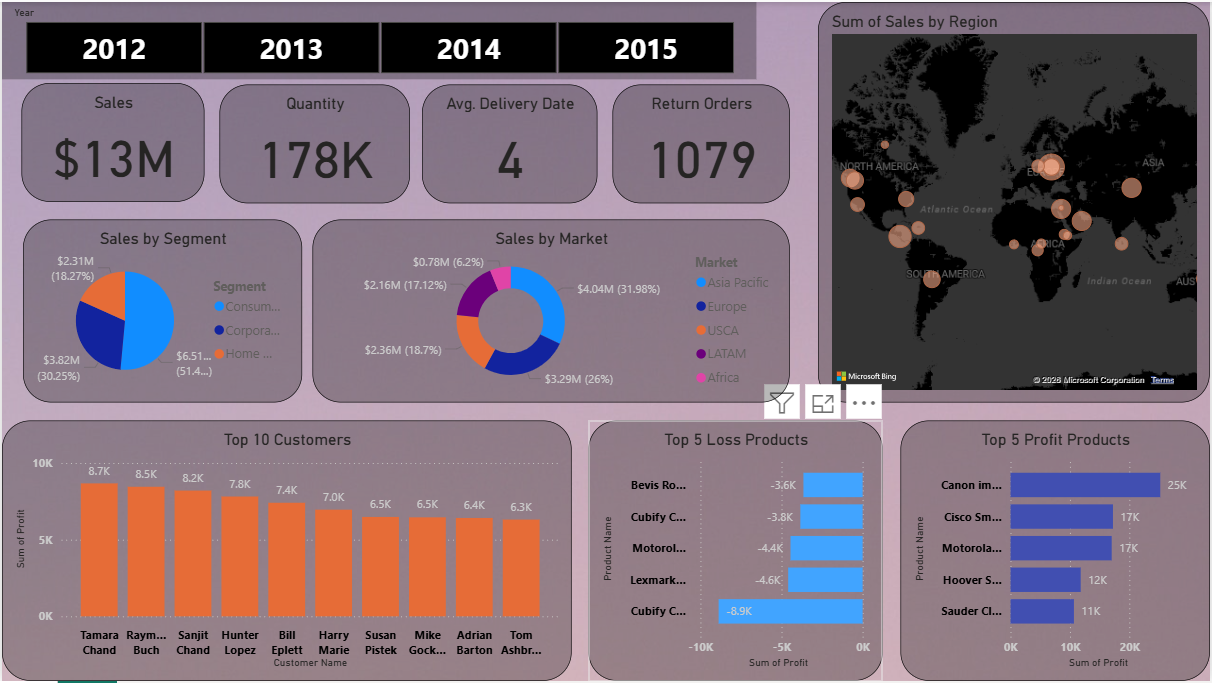

The dashboard page shown, as its layout file describes it:
{"tool":"powerbi","page":{"name":"Page 1","canvas":[1280,720],"ordinal":0},"visuals":[{"type":"card","title":"Sales","fields":{"Values":["Sum(Orders.Sales)"]},"box":[21.3,86.7,194,126],"z":0},{"type":"card","title":"Quantity","fields":{"Values":["Sum(Orders.Quantity)"]},"box":[230,87.3,202,126],"z":1000},{"type":"card","title":"Avg. Delivery Date","fields":{"Values":["Avg(Orders.Delivery days)"]},"box":[446,87.3,186,126],"z":2000},{"type":"slicer","fields":{"Values":["Orders.Year"]},"box":[0,0,800,82],"z":3000},{"type":"card","title":"Return Orders","fields":{"Values":["Sum(Returns.Return Orders)"]},"box":[648,87.3,188,126],"z":4000},{"type":"map","fields":{"Category":["Orders.Region"],"Size":["Sum(Orders.Sales)"]},"box":[864.7,0,415.3,424.8],"z":5000},{"type":"barChart","title":"Top 5 Profit Products","fields":{"Category":["Orders.Product Name"],"Y":["Sum(Orders.Profit)"]},"box":[952,444,328,276],"z":6000},{"type":"barChart","title":"Top 5 Loss Products","fields":{"Category":["Orders.Product Name"],"Y":["Sum(Orders.Profit)"]},"box":[622,444,312,276],"z":7000},{"type":"pieChart","title":"Sales by Segment","fields":{"Category":["Orders.Segment"],"Y":["Sum(Orders.Sales)"]},"box":[22,230,296,194],"z":8000},{"type":"donutChart","title":"Sales by Market","fields":{"Y":["Sum(Orders.Sales)"],"Category":["Orders.Market"]},"box":[330,230,506,194],"z":9000},{"type":"columnChart","title":"Top 10 Customers","fields":{"Y":["Sum(Orders.Profit)"],"Category":["Orders.Customer Name"]},"box":[0,444,604,276],"z":10000}]}

Visuals, with their boxes in screenshot pixels (x1, y1, x2, y2), scaled from the page's 1280x720 canvas onto the 1212x683 screenshot:
"Sales" card: BBox(20, 82, 204, 202)
"Quantity" card: BBox(218, 83, 409, 202)
"Avg. Delivery Date" card: BBox(422, 83, 598, 202)
slicer - Orders.Year: BBox(0, 0, 758, 78)
"Return Orders" card: BBox(614, 83, 792, 202)
map - Orders.Region x Sum(Orders.Sales): BBox(819, 0, 1211, 403)
"Top 5 Profit Products" barChart: BBox(901, 421, 1211, 682)
"Top 5 Loss Products" barChart: BBox(589, 421, 884, 682)
"Sales by Segment" pieChart: BBox(21, 218, 301, 402)
"Sales by Market" donutChart: BBox(312, 218, 792, 402)
"Top 10 Customers" columnChart: BBox(0, 421, 572, 682)
